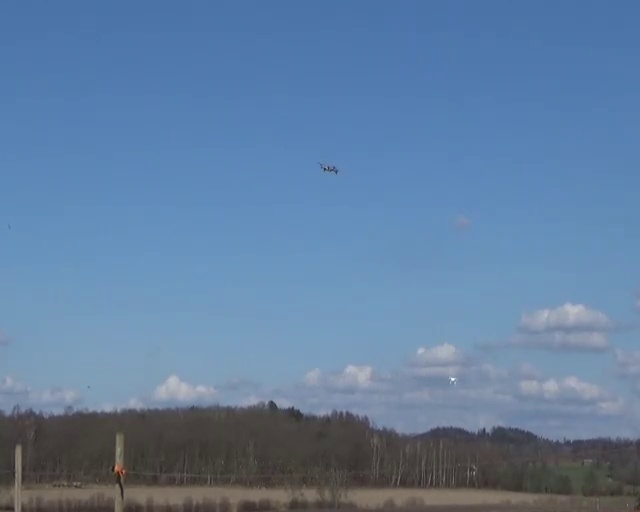DRONE: (318, 162, 339, 174)
